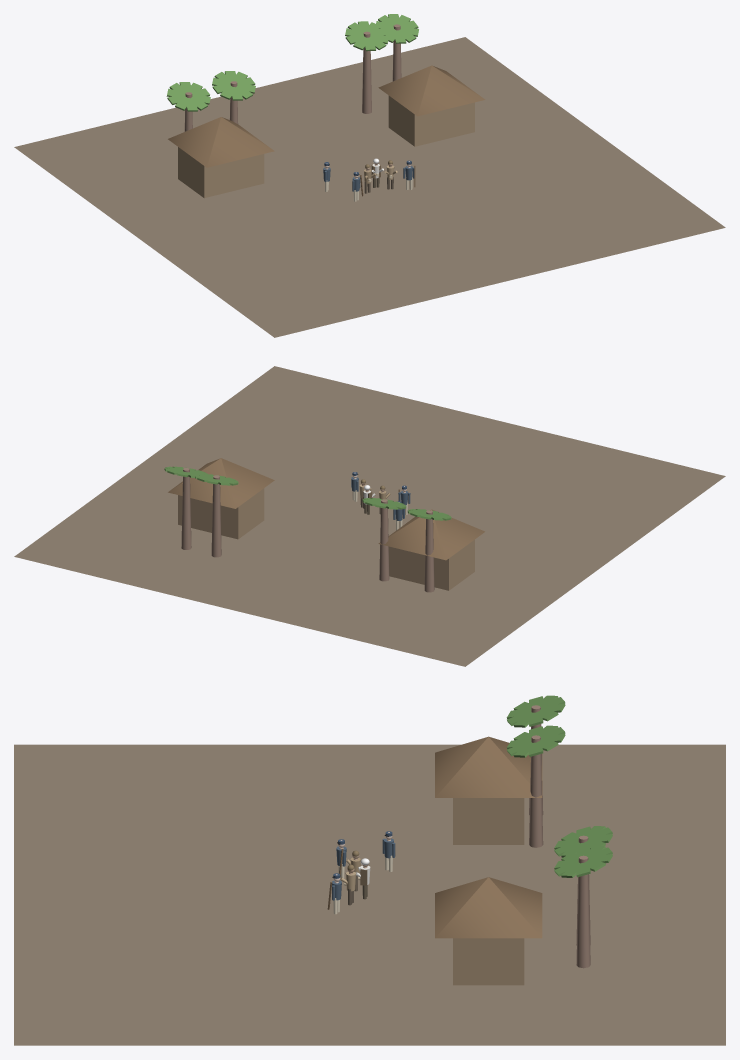
Rendered from 18.banten_historical_scene_1888.glb.
The picture shows the model from 3 angles, top to bottom: view 1: azimuth 30°, elevation 25°; view 2: azimuth 150°, elevation 25°; view 3: azimuth 270°, elevation 25°; orthographic projection. The views are drawn at different scales.
Bounding box in the file's own units: 30 × 5.23 × 30.
